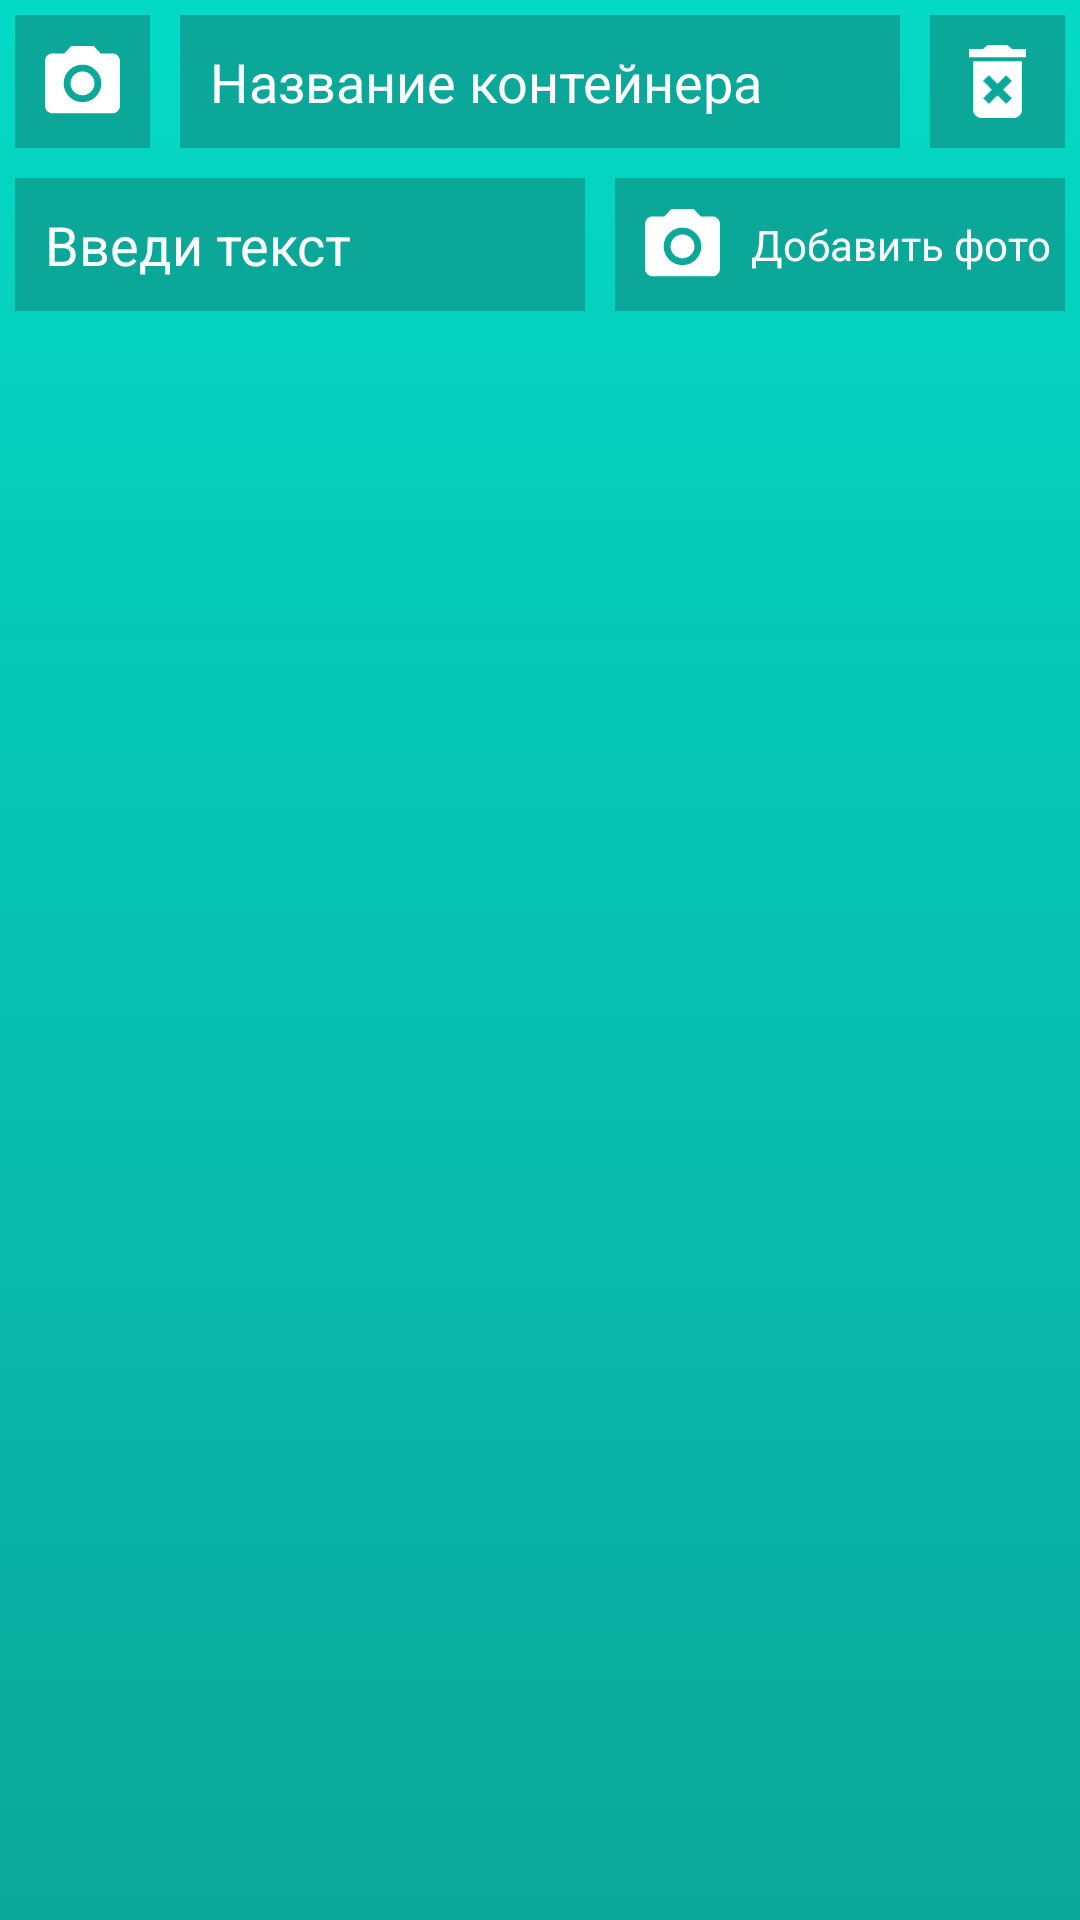

Icon bounding boxes for this 1080*1920 phone screenshot, format [x1, y1, x2, y2]:
delete forever: [930, 15, 1065, 148]
photo camera: [15, 15, 150, 148], [615, 178, 750, 311]
